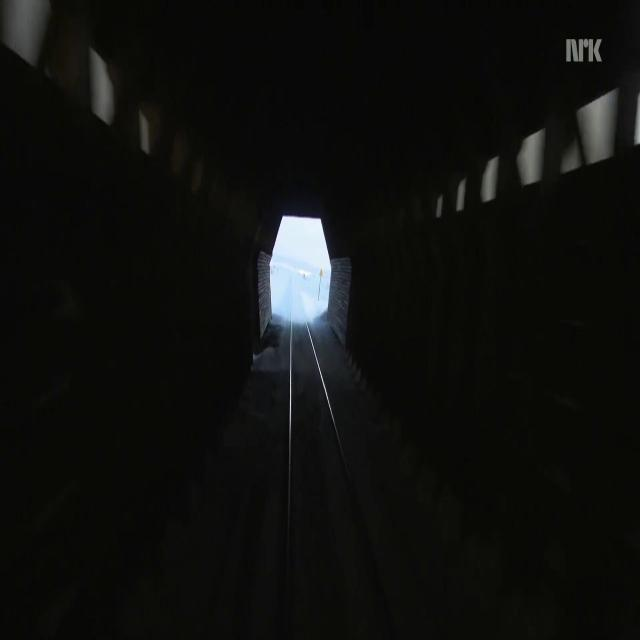rail-track: (290, 294, 390, 639)
